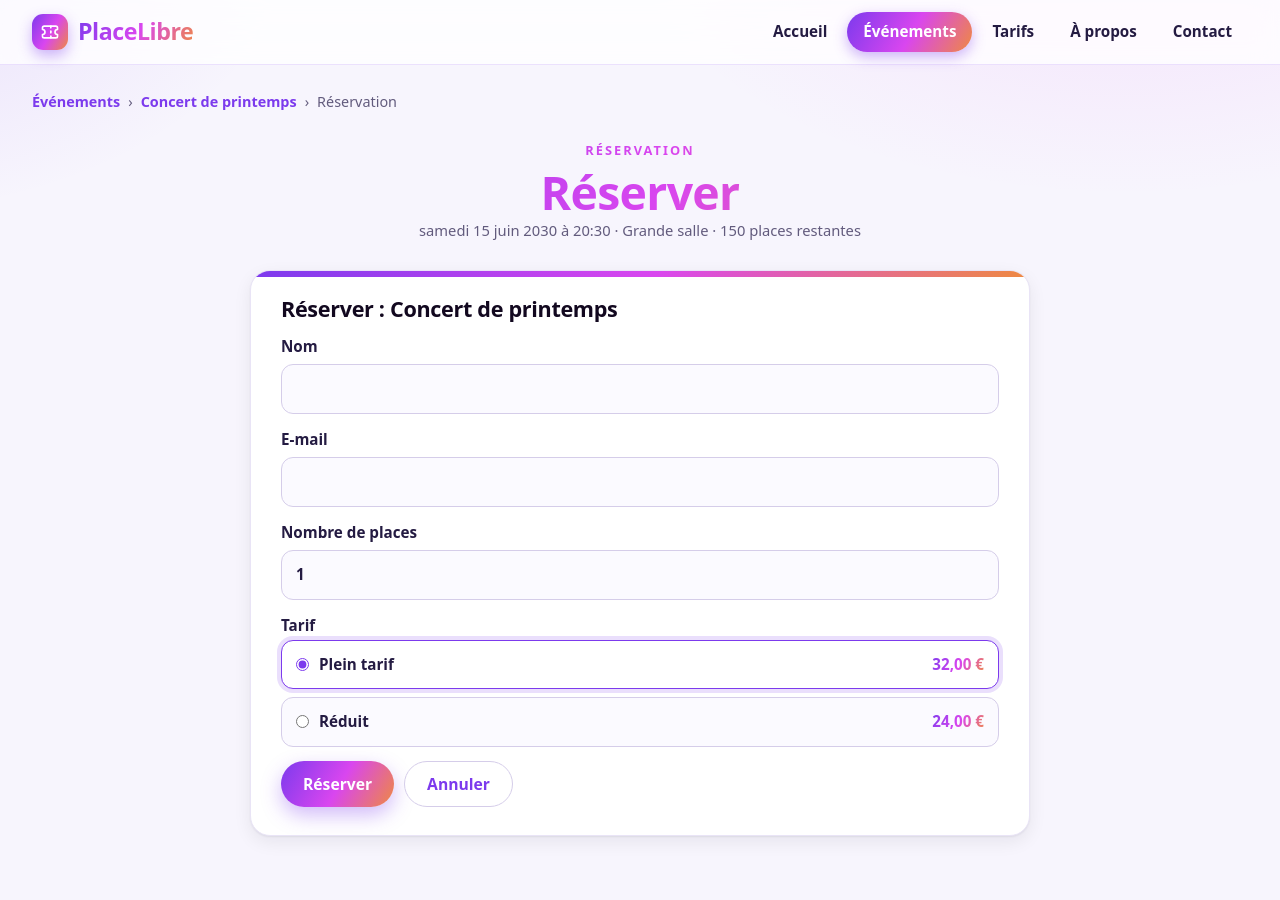
Scenario: page de réservation (/evenements/:id/reserver) › affiche un message clair quand l'événement est devenu complet
Type "Ada" into the field labelled "Nom" at (640, 389), box [281,364,999,414]
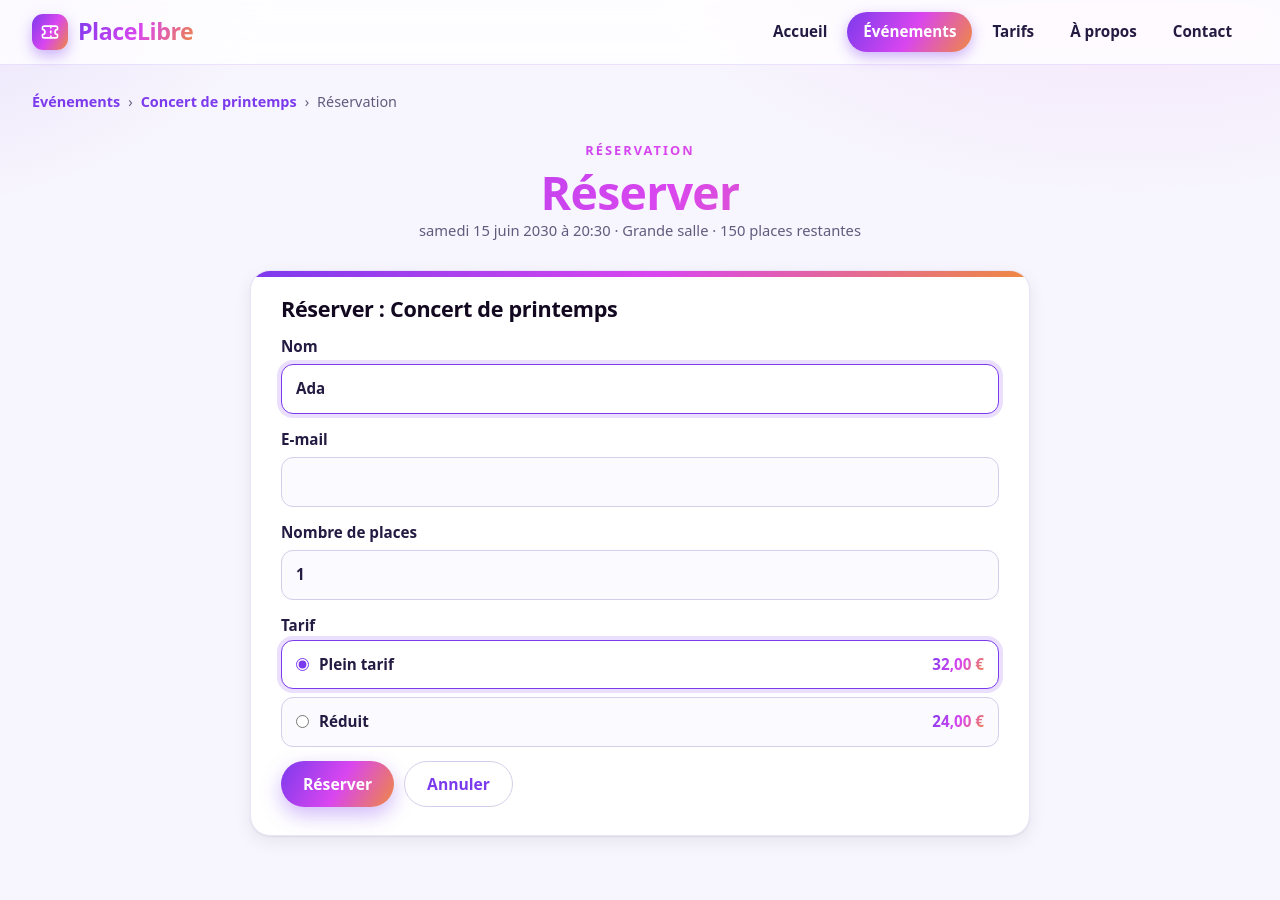
Type "ada@example.com" into the field labelled "E-mail" at (640, 482), box [281,457,999,507]
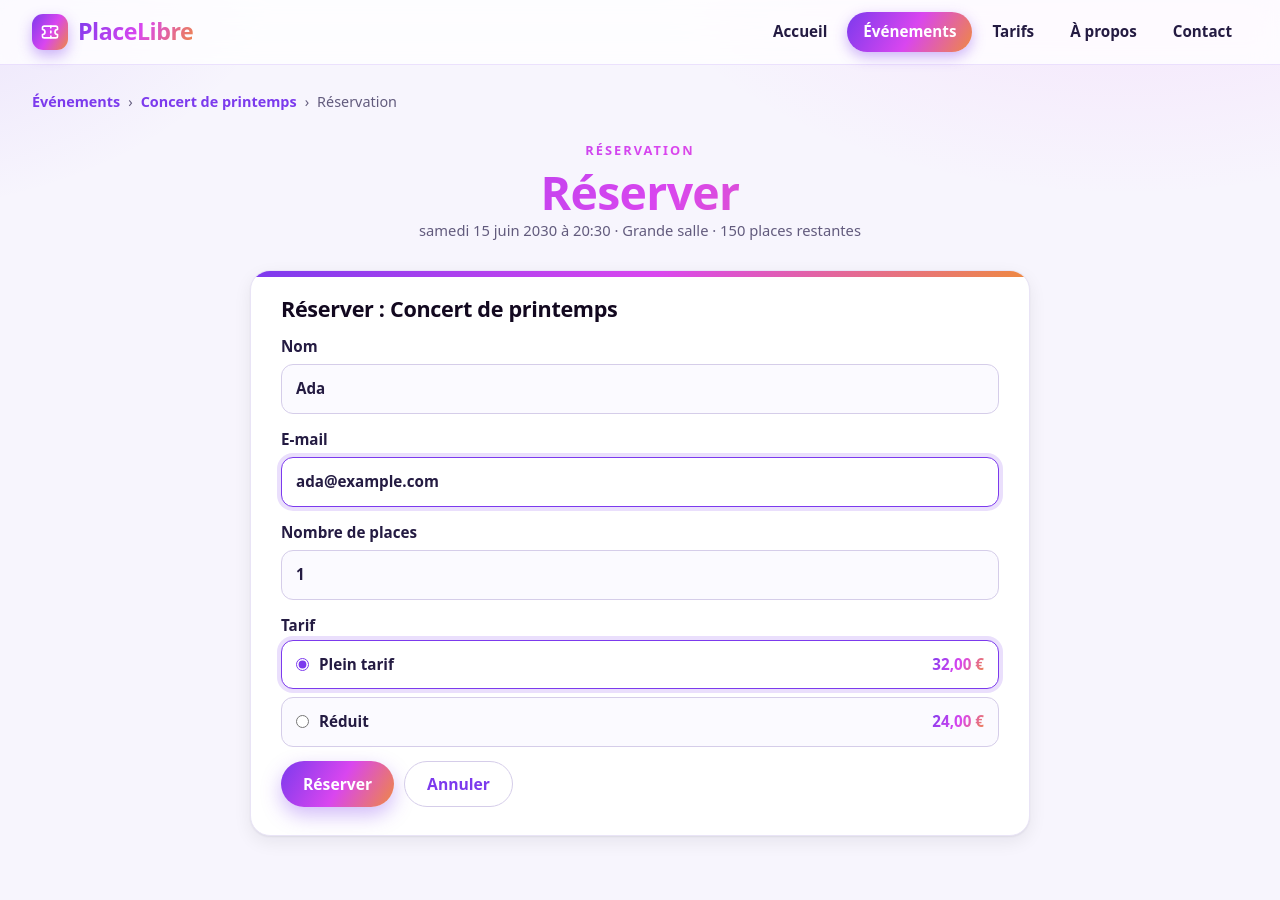
Click the button "Réserver" at (338, 784), box [281,761,394,807]
(page scrolled)
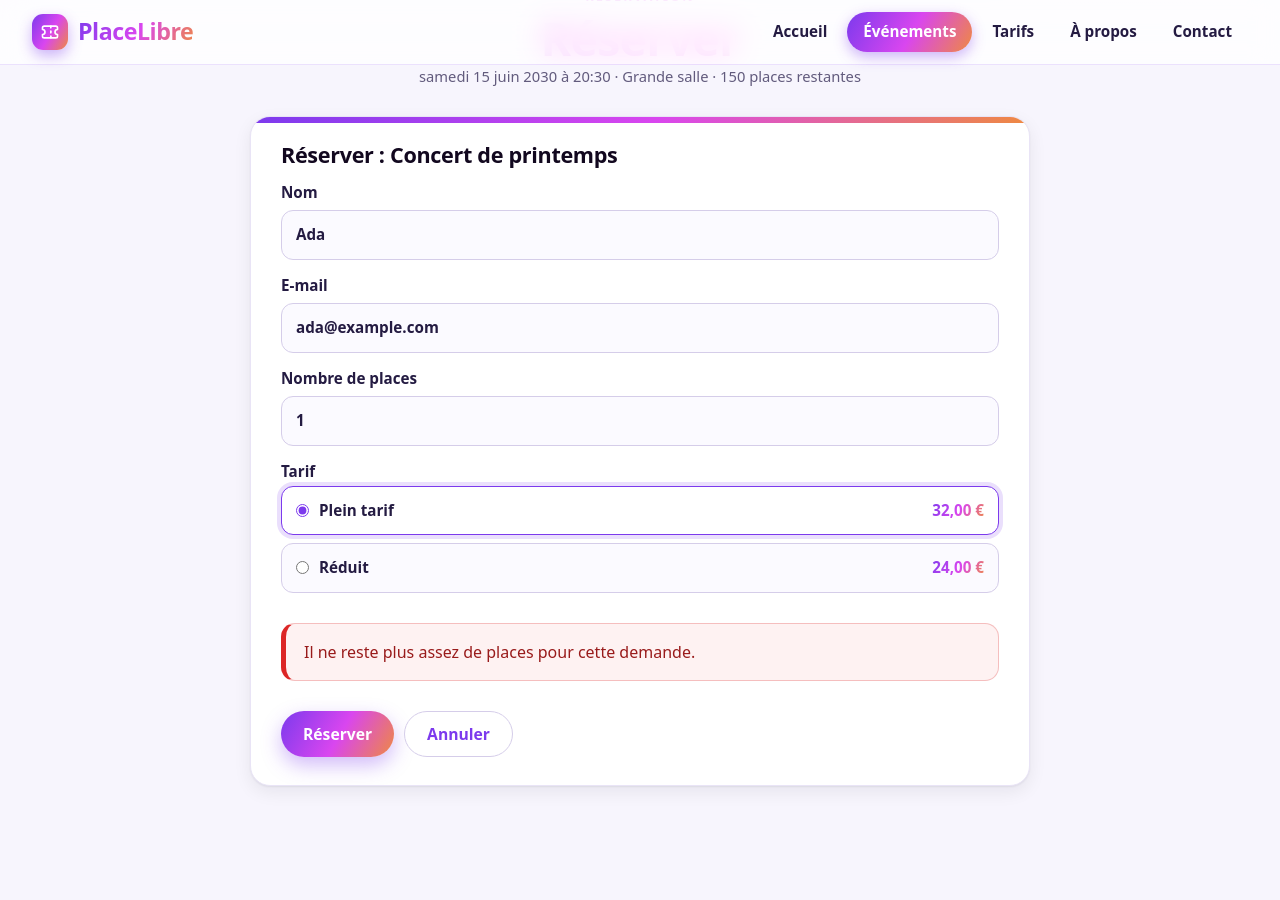
Expected: the form is shown, [250,116,1030,786]
Expected: the message shows "Il ne reste plus assez de places", [304,641,695,663]
